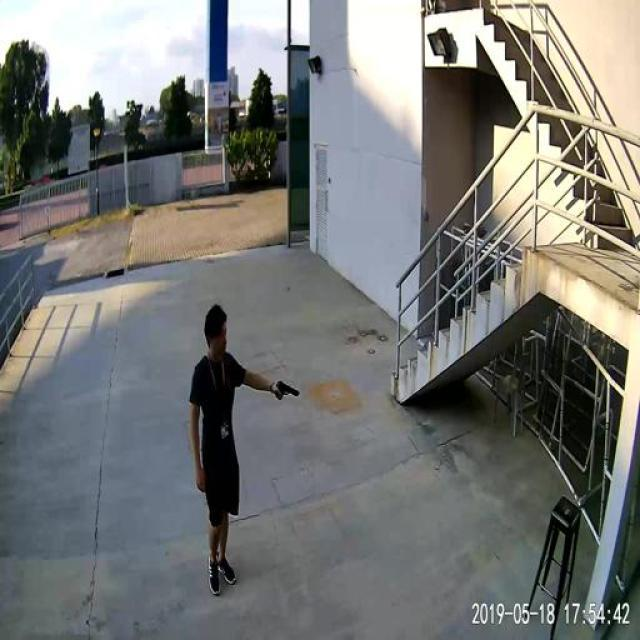Gun: (266, 371, 306, 416)
